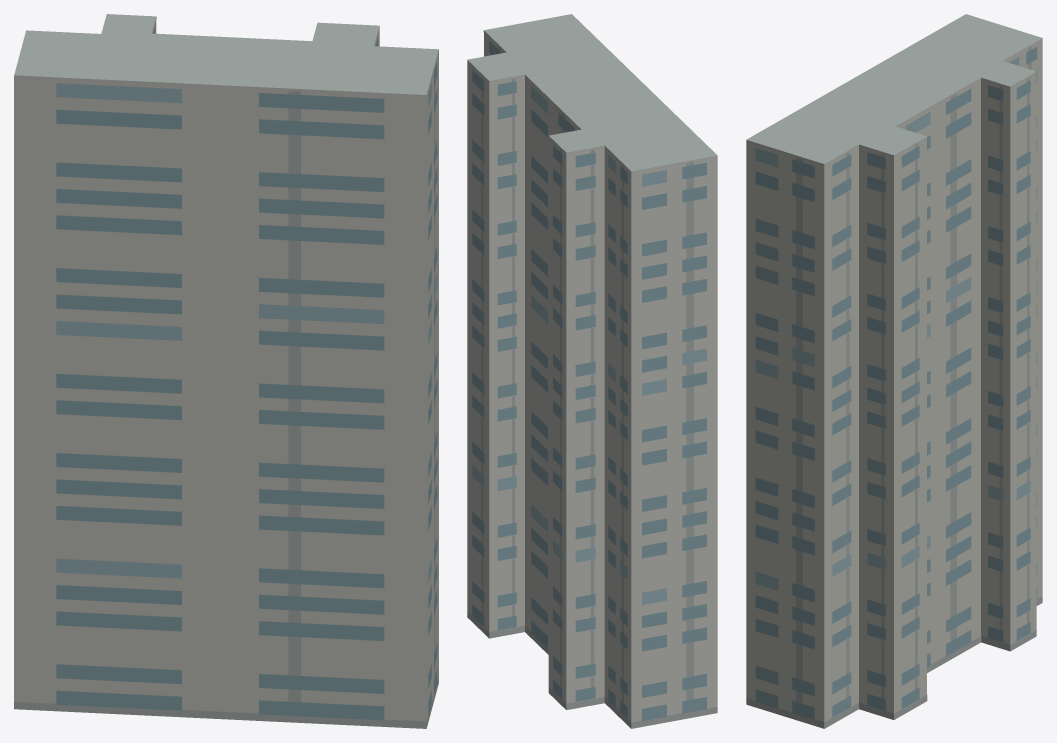
File: residential-9cfa2050-d707-4423-8556-a15d434efd37.glb
3 renders of one model, left to right at view 1: azimuth 30°, elevation 25°; view 2: azimuth 150°, elevation 25°; view 3: azimuth 270°, elevation 25°, orthographic. The views are drawn at different scales.
Visible parts, largest first — view 1: residential-9cfa2050-d707-4423-8556-a15d434efd37.tmp; view 2: residential-9cfa2050-d707-4423-8556-a15d434efd37.tmp; view 3: residential-9cfa2050-d707-4423-8556-a15d434efd37.tmp.
Part boxes in pixels (left/top/right/bottom): residential-9cfa2050-d707-4423-8556-a15d434efd37.tmp: left=14, top=14, right=438, bottom=728; residential-9cfa2050-d707-4423-8556-a15d434efd37.tmp: left=467, top=14, right=717, bottom=728; residential-9cfa2050-d707-4423-8556-a15d434efd37.tmp: left=746, top=14, right=1042, bottom=728.
Bounding box in the file's own units: 37.64 × 66 × 31.41.
